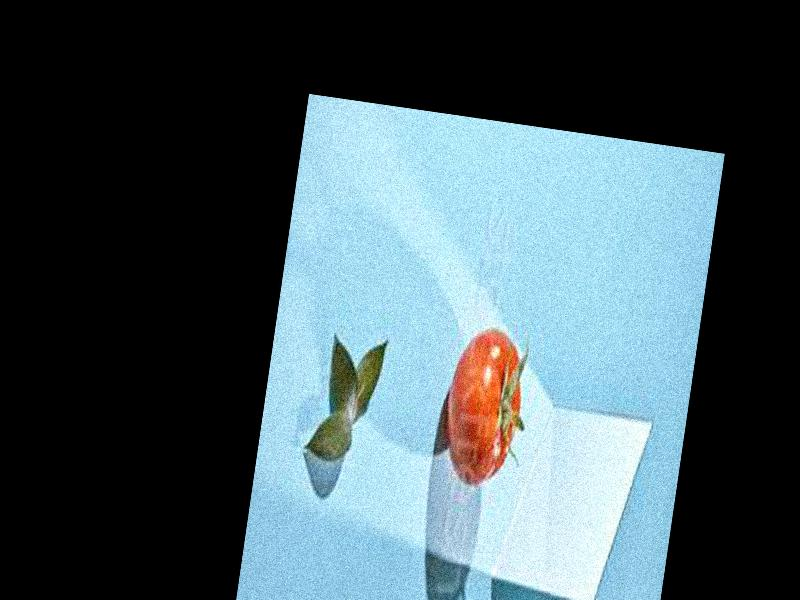Tomato: (436, 320, 532, 491)
